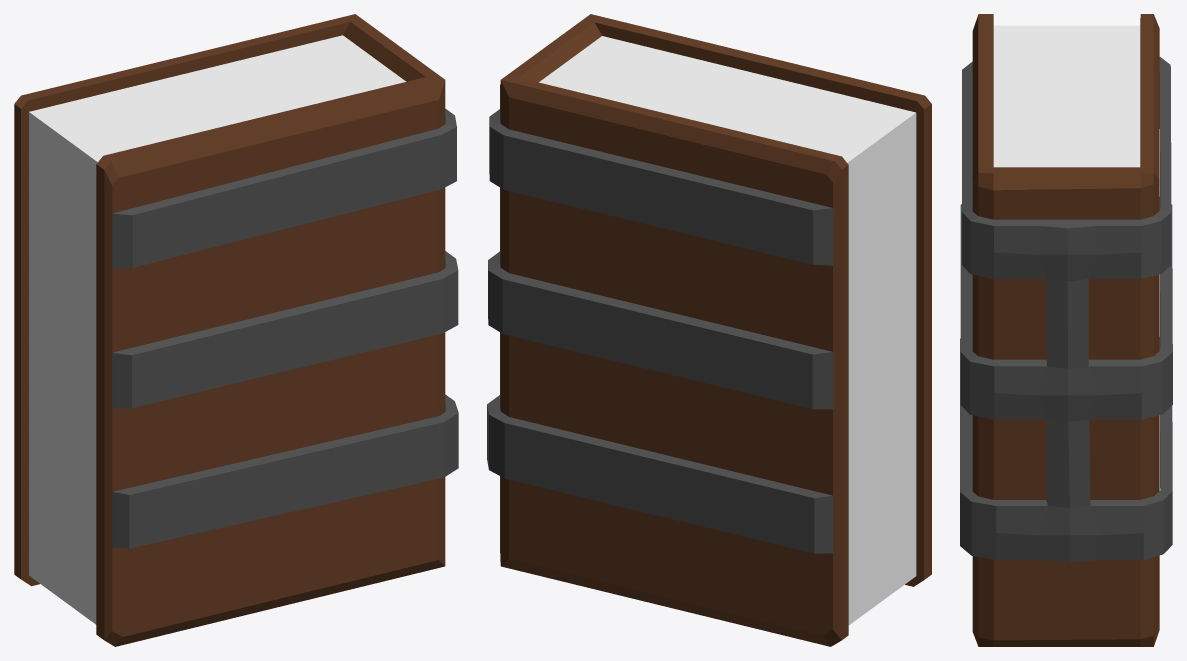
Rendered from bookframe01.gltf.
3 renders of one model, left to right at view 1: azimuth 30°, elevation 25°; view 2: azimuth 150°, elevation 25°; view 3: azimuth 270°, elevation 25°, orthographic. The views are drawn at different scales.
Visible parts, largest first — view 1: Cube.001; view 2: Cube.001; view 3: Cube.001.
Boxes of the visible parts, x1=… form: Cube.001: x1=14, y1=14, x2=458, y2=646; Cube.001: x1=487, y1=14, x2=931, y2=646; Cube.001: x1=960, y1=14, x2=1172, y2=646.
Size of the model in its own units: 0.1573 by 0.2005 by 0.0816.
1 material, 1 textured.
